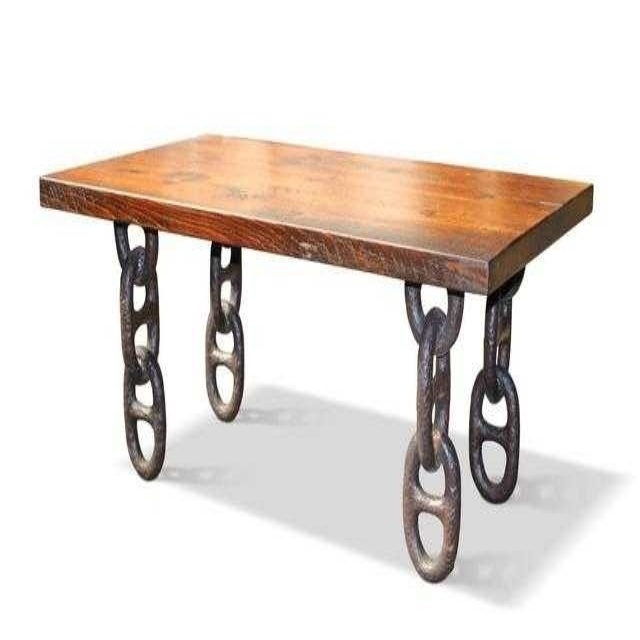obstacle: (40, 135, 592, 581)
